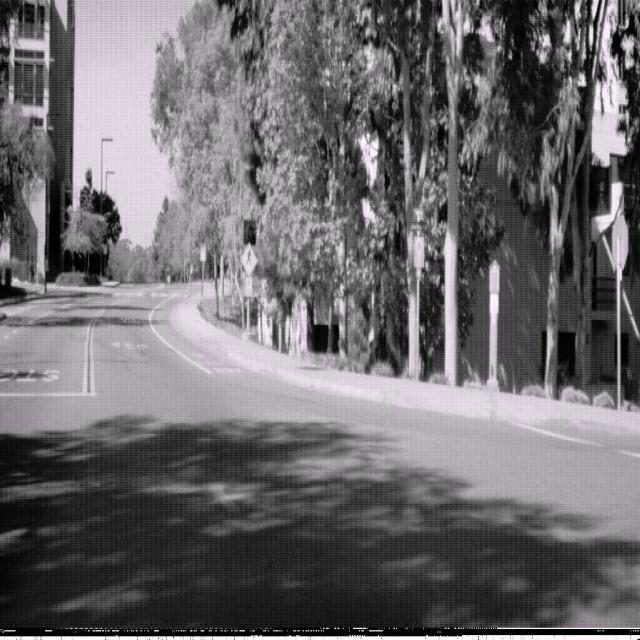pedestrianCrossing: (240, 242, 258, 277)
